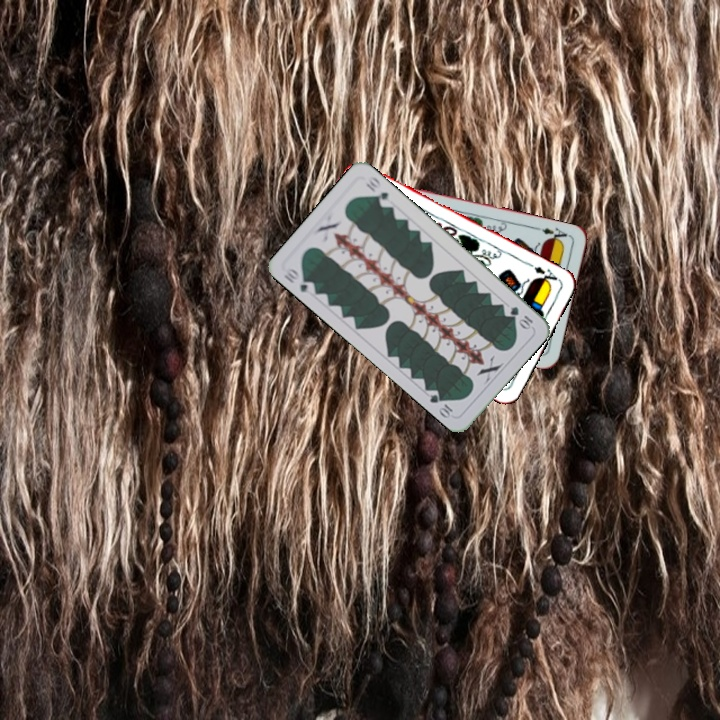EA: (532, 223, 572, 245), (530, 262, 562, 288)
G10: (280, 263, 318, 297), (506, 302, 536, 332)
